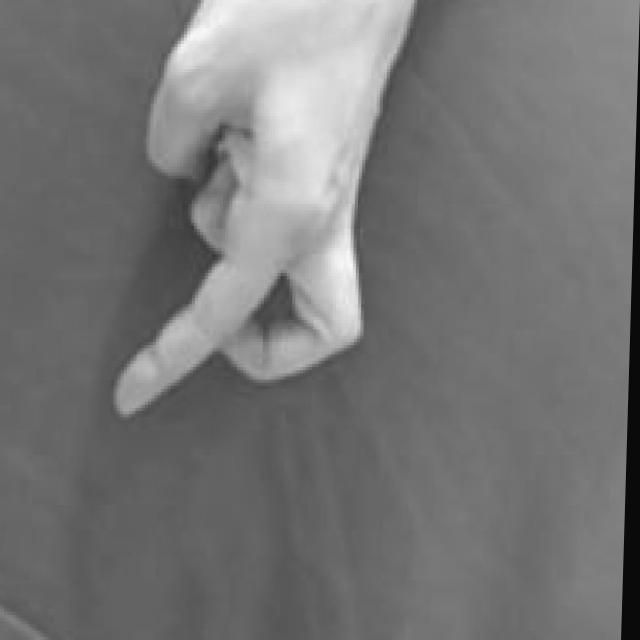P: (97, 0, 426, 436)
